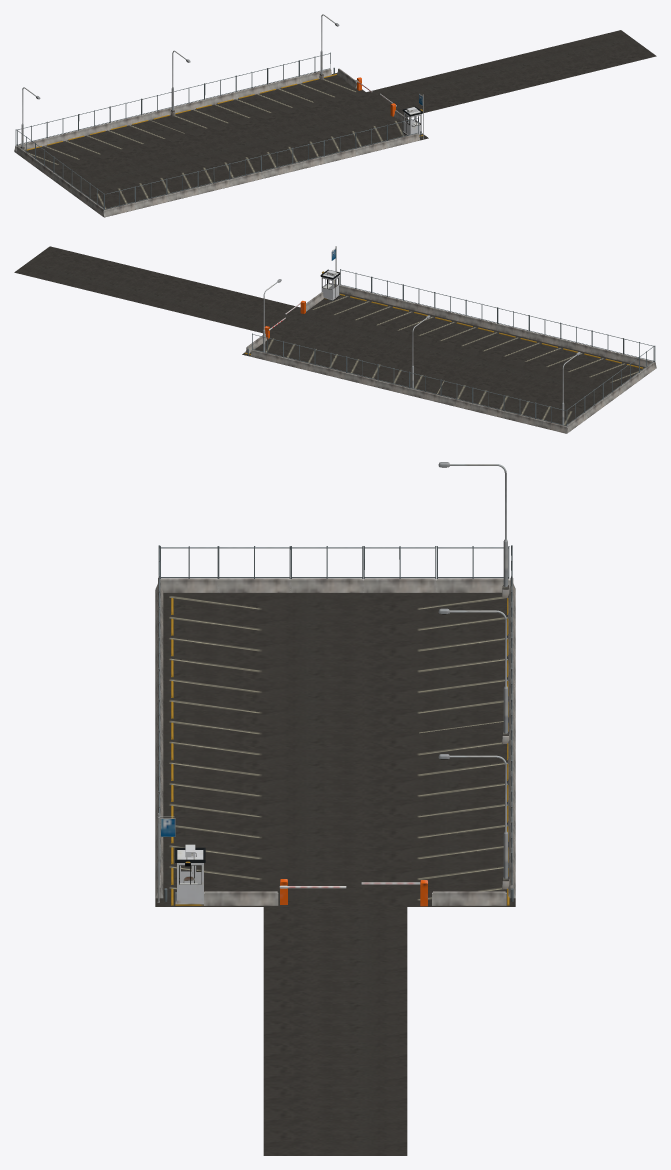
File: Parking.fbx
3 renders of one model, top to bottom at view 1: azimuth 30°, elevation 25°; view 2: azimuth 150°, elevation 25°; view 3: azimuth 270°, elevation 25°, orthographic. The views are drawn at different scales.
Parts seen in each view (by area): view 1: ParkingLot, Plane; view 2: ParkingLot, Plane; view 3: ParkingLot, Plane.
Boxes of the visible parts, x1=… form: ParkingLot: x1=14, y1=14, x2=428, y2=217; Plane: x1=366, y1=30, x2=656, y2=116; ParkingLot: x1=242, y1=246, x2=656, y2=433; Plane: x1=14, y1=246, x2=300, y2=333; ParkingLot: x1=155, y1=462, x2=515, y2=906; Plane: x1=263, y1=907, x2=407, y2=1155.
Size of the model in its own units: 6394 by 706 by 1721.
